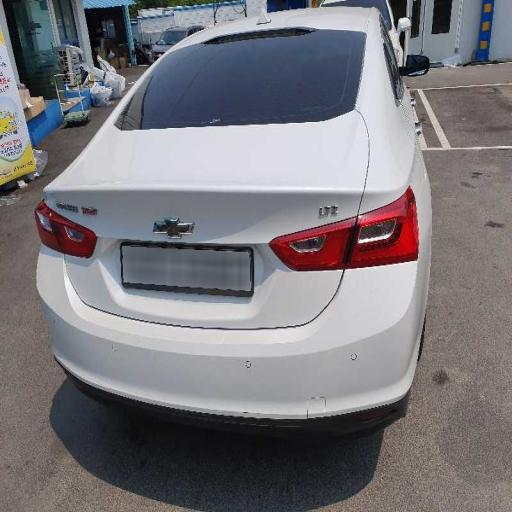broken: (294, 384, 342, 432)
